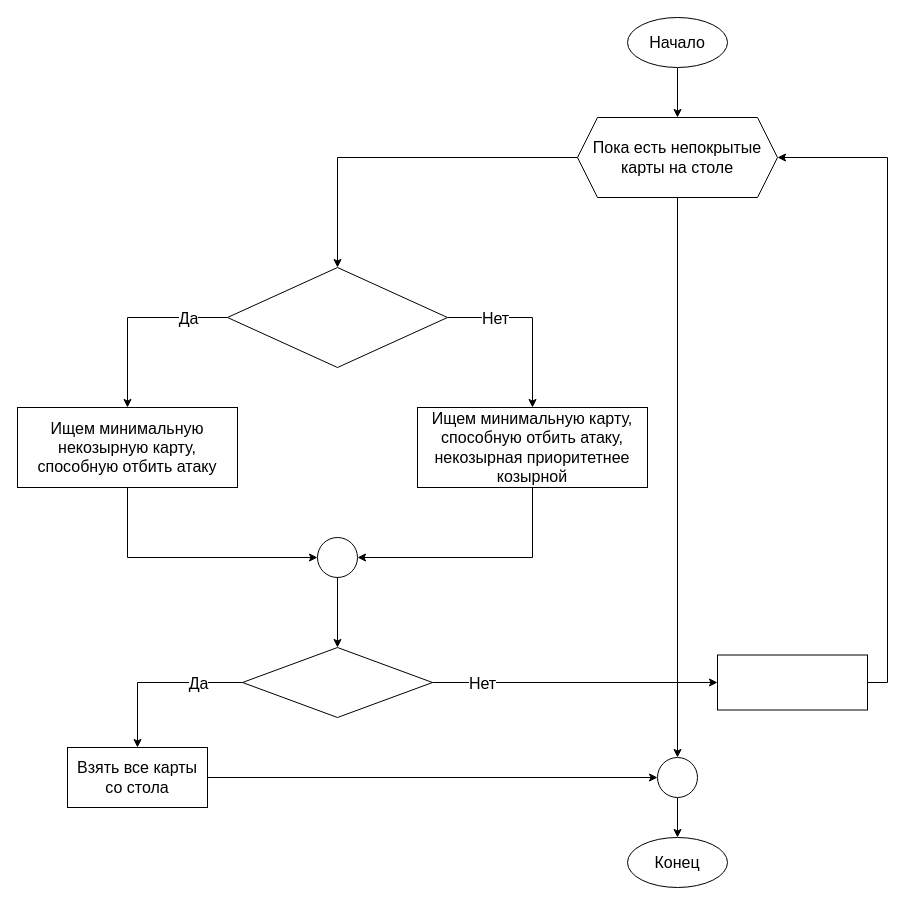
This 913x905 diagram has some shape labels left out. The centre of each missing label's shape, as x and y in pixels:
"Карт в бито <= 12 шт." belongs at [337,317].
"Карта НЕ найдена?" belongs at [337,682].
"Покрыть атакующую карту" belongs at [792,682].
